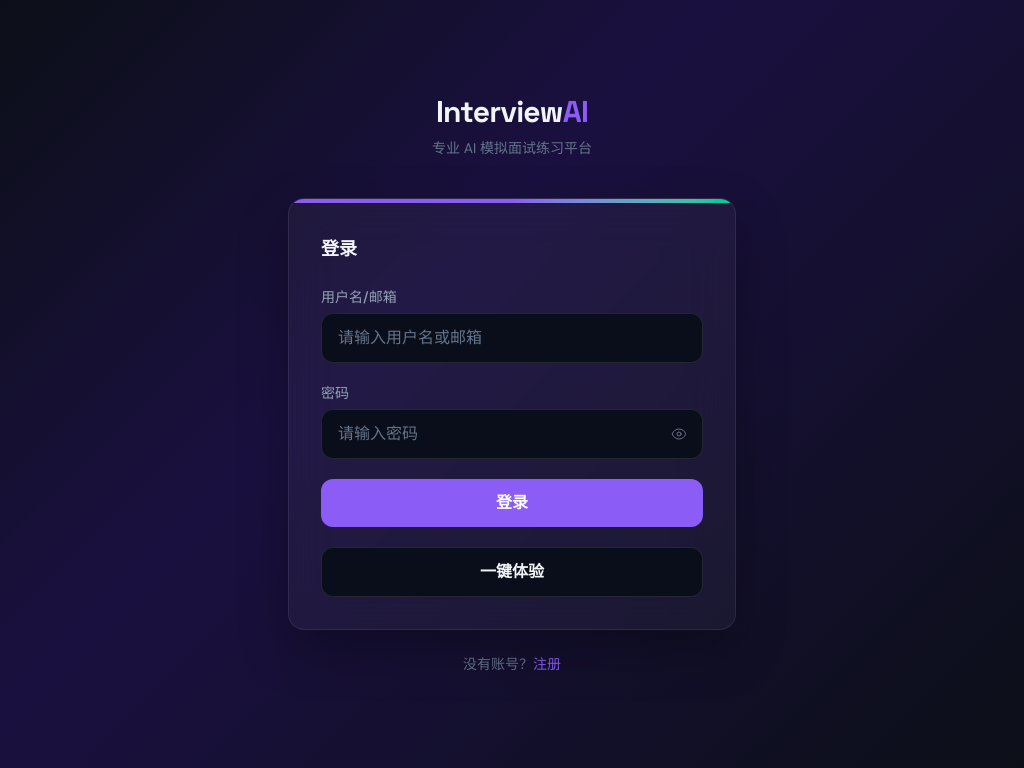
LoginPage anonymous login › shows backend error when anonymous login fails
Click the button "一键体验".
click(512, 572)  # box [321,547,703,597]
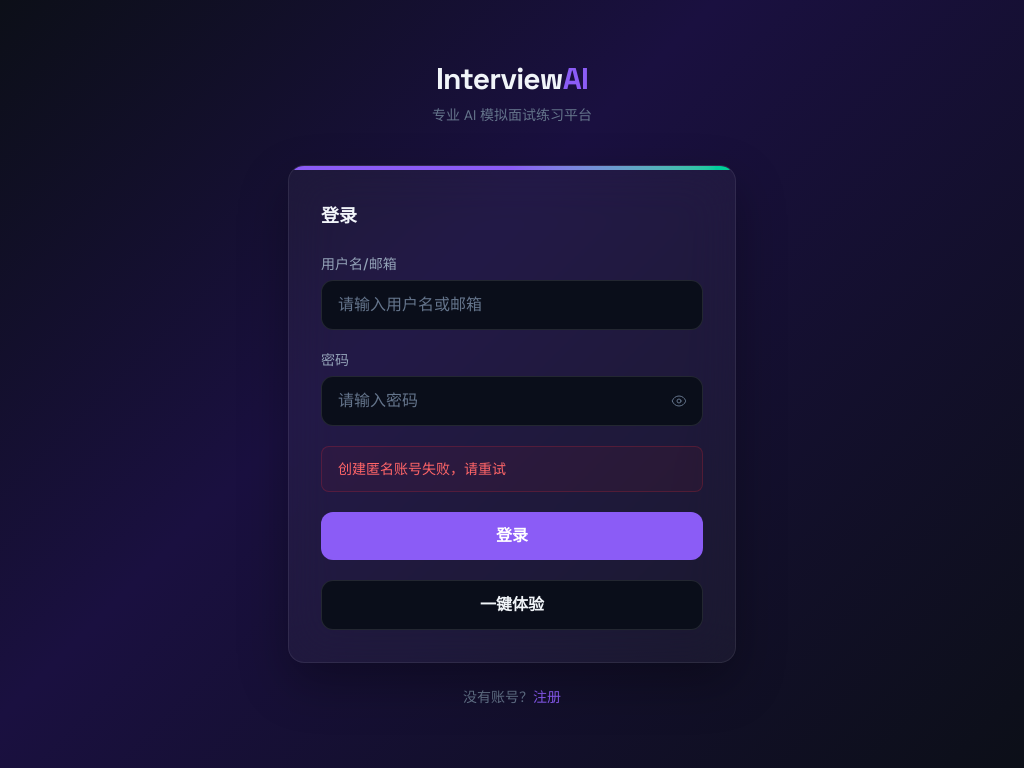
Expected: the text "创建匿名账号失败，请重试" is shown, [321,446,703,492]
